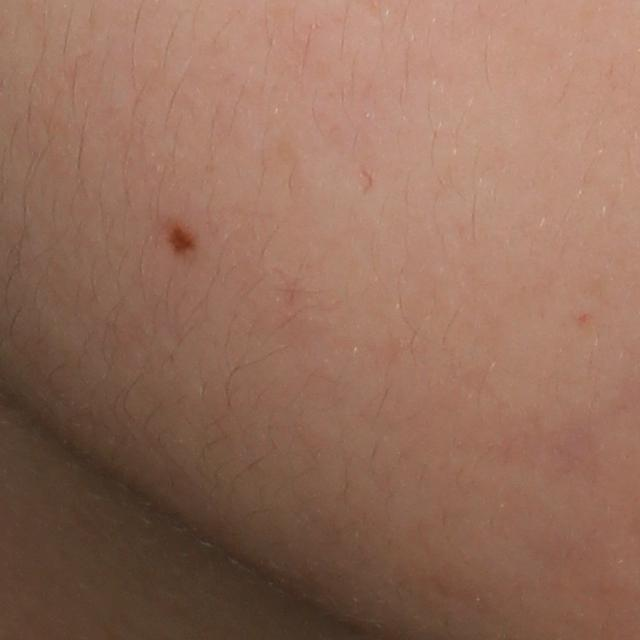nevus: (166, 215, 196, 260)
